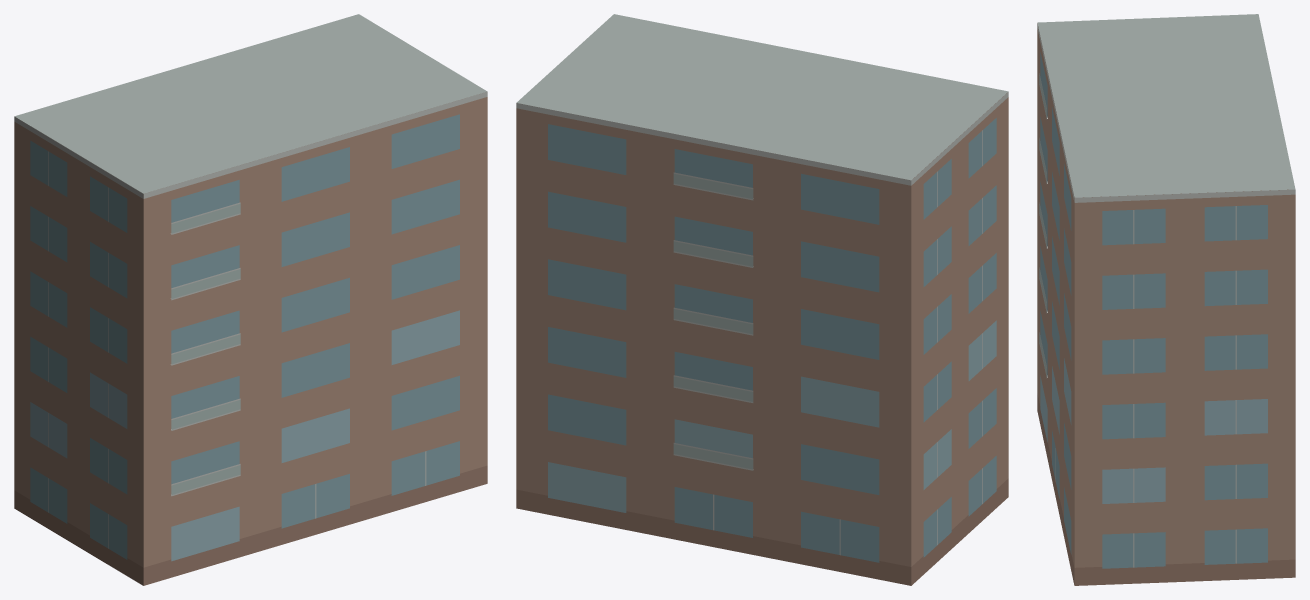
The model's file is survey-upis-32962914.glb.
The picture shows the model from 3 angles, left to right: view 1: azimuth 30°, elevation 25°; view 2: azimuth 150°, elevation 25°; view 3: azimuth 270°, elevation 25°; orthographic projection. The views are drawn at different scales.
Visible parts, largest first — view 1: survey-upis-32962914.tmp; view 2: survey-upis-32962914.tmp; view 3: survey-upis-32962914.tmp.
Boxes of the visible parts, x1,y1,x2,y2 form: survey-upis-32962914.tmp: [14, 14, 487, 585]; survey-upis-32962914.tmp: [516, 14, 1008, 585]; survey-upis-32962914.tmp: [1037, 14, 1295, 585].
Size of the model in its own units: 18.59 by 18.3 by 11.04.
